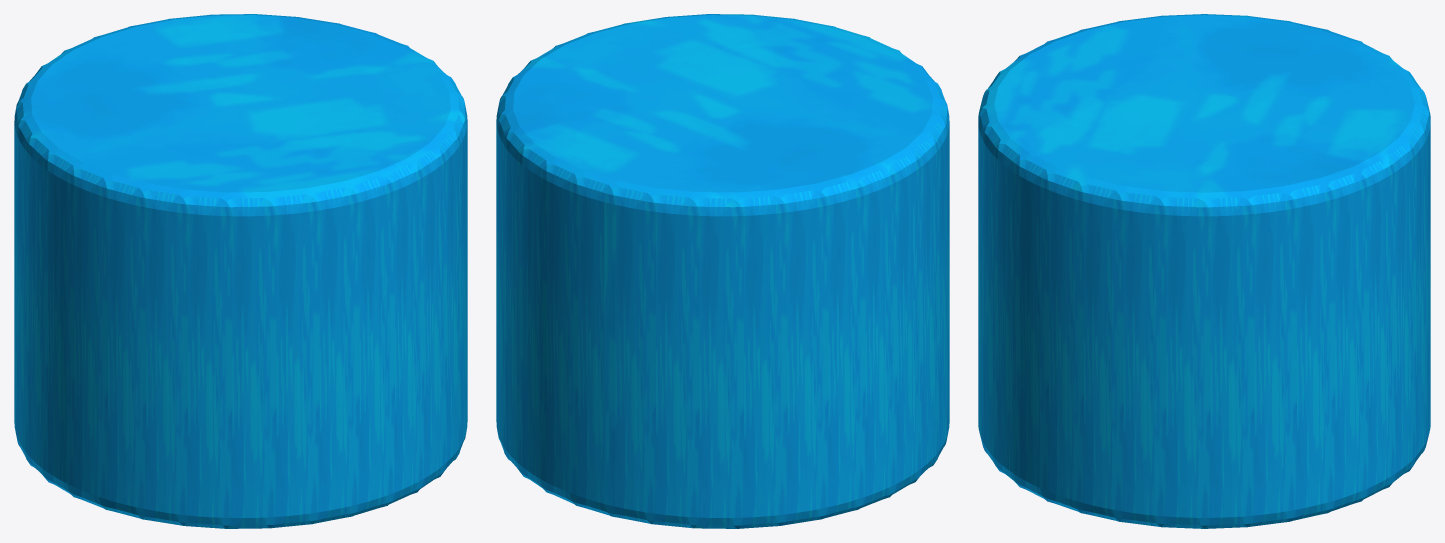
Rendered from RR_Resource_Celestian.obj.
3 renders of one model, left to right at view 1: azimuth 30°, elevation 25°; view 2: azimuth 150°, elevation 25°; view 3: azimuth 270°, elevation 25°, orthographic.
Visible parts, largest first — view 1: Cylinder.001; view 2: Cylinder.001; view 3: Cylinder.001.
Boxes of the visible parts, left/top/right/bottom form: Cylinder.001: left=14, top=14, right=467, bottom=528; Cylinder.001: left=496, top=14, right=949, bottom=528; Cylinder.001: left=978, top=14, right=1430, bottom=528.
Bounding box in the file's own units: 2.82 × 2.31 × 2.82.
